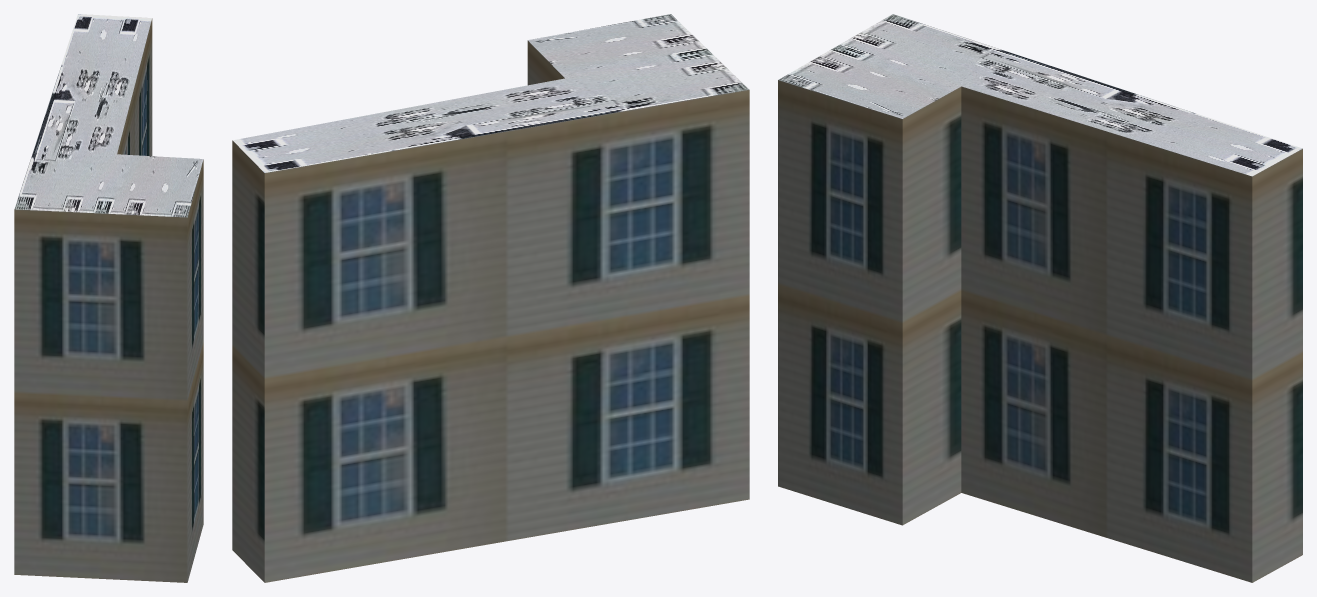
File: ResTex__5048.fbx
3 views of the same model, side by side, from view 1: azimuth 30°, elevation 25°; view 2: azimuth 150°, elevation 25°; view 3: azimuth 270°, elevation 25° (orthographic). The views are drawn at different scales.
Visible parts, largest first — view 1: CityEngineMaterial_7_m, CityEngineMaterial_2_m; view 2: CityEngineMaterial_7_m, CityEngineMaterial_2_m; view 3: CityEngineMaterial_7_m, CityEngineMaterial_2_m.
Boxes of the visible parts, <box> form: CityEngineMaterial_7_m: <box>14,18,203,582</box>; CityEngineMaterial_2_m: <box>14,14,203,217</box>; CityEngineMaterial_7_m: <box>232,40,749,582</box>; CityEngineMaterial_2_m: <box>233,14,748,172</box>; CityEngineMaterial_7_m: <box>778,80,1302,582</box>; CityEngineMaterial_2_m: <box>778,14,1302,176</box>.
Size of the model in its own units: 5.14 by 6 by 7.02.
Materials: 2 (2 with a texture image).
